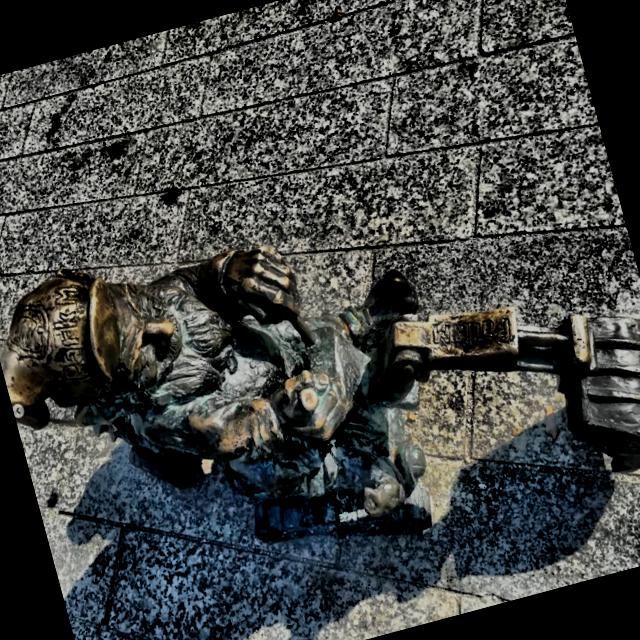Koparkus: (0, 246, 640, 538)
